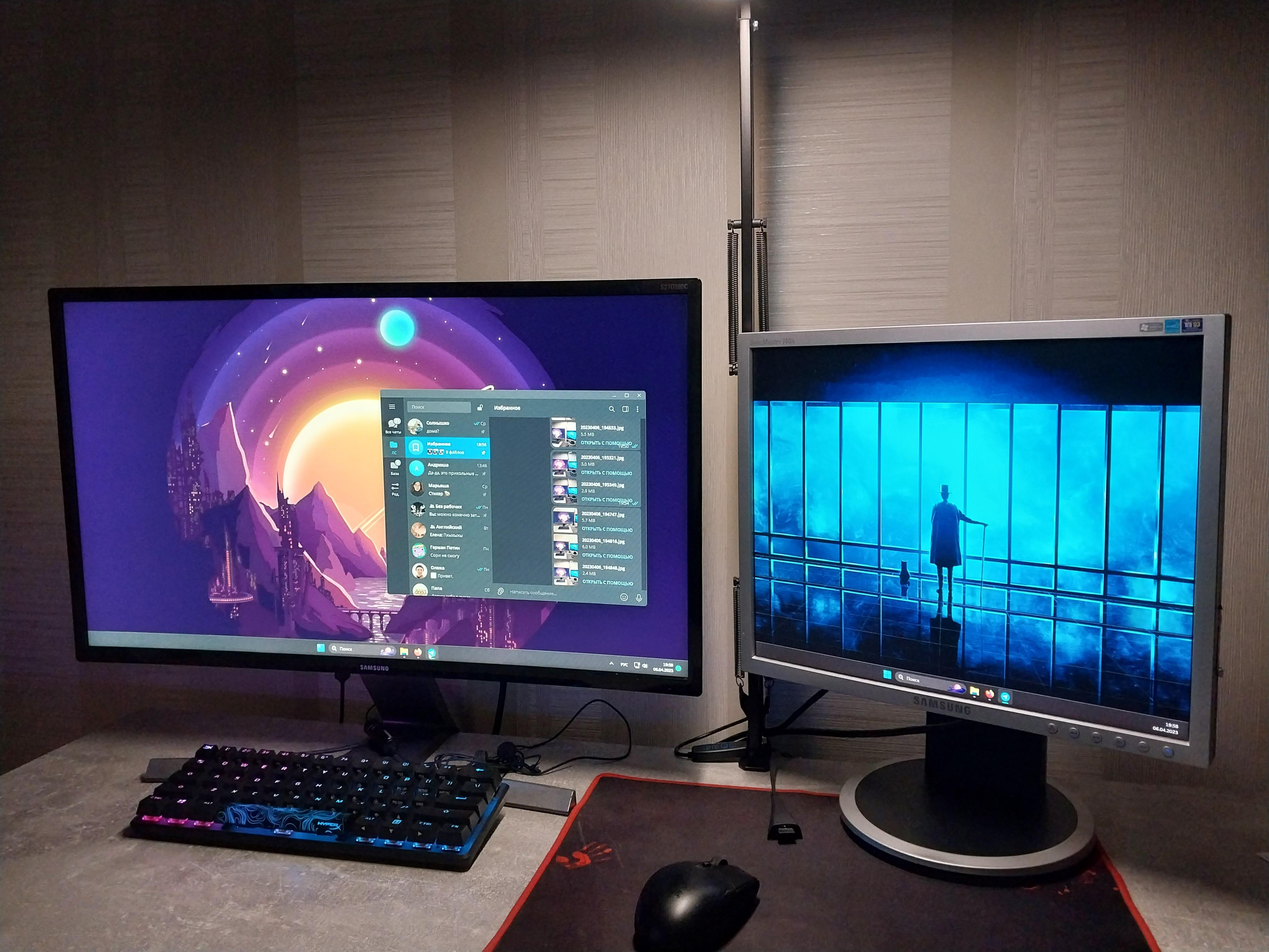monitor: (42, 276, 705, 699), (732, 312, 1233, 770)
